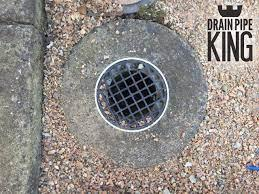closed manhole-not overflowing-: (95, 60, 171, 133)
